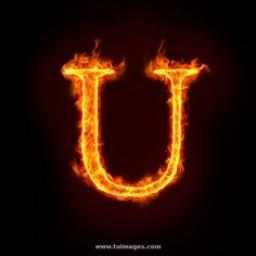u: (55, 42, 207, 208)
